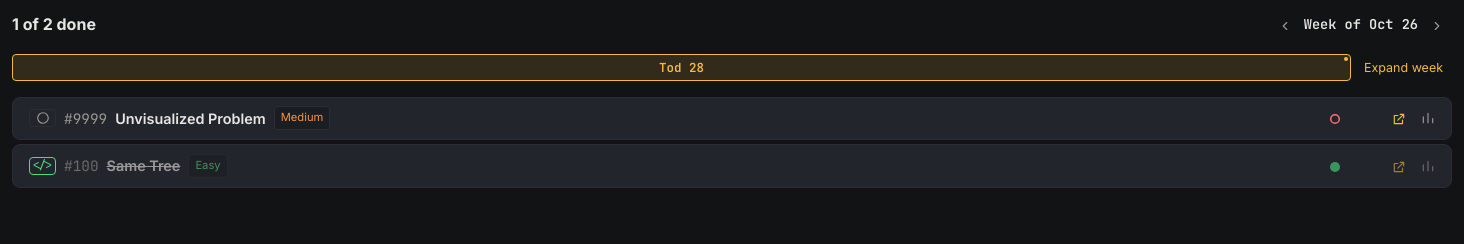
Scenario: TodayBoardComponent — trend panel › shows "Loading history…" while details are null (idle/loading)
Click the 1st button with class "today-board__trend-btn".
click(1428, 118)  # box [1421,108,1435,128]
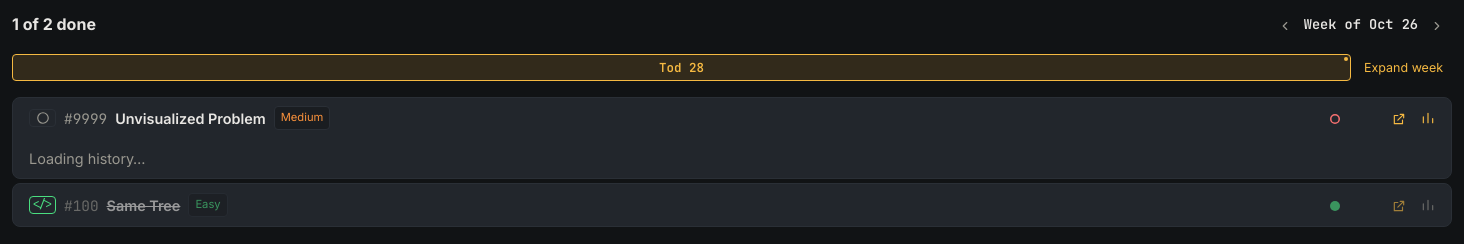
Now the text "Loading history…" is shown, box [29,150,146,167]
